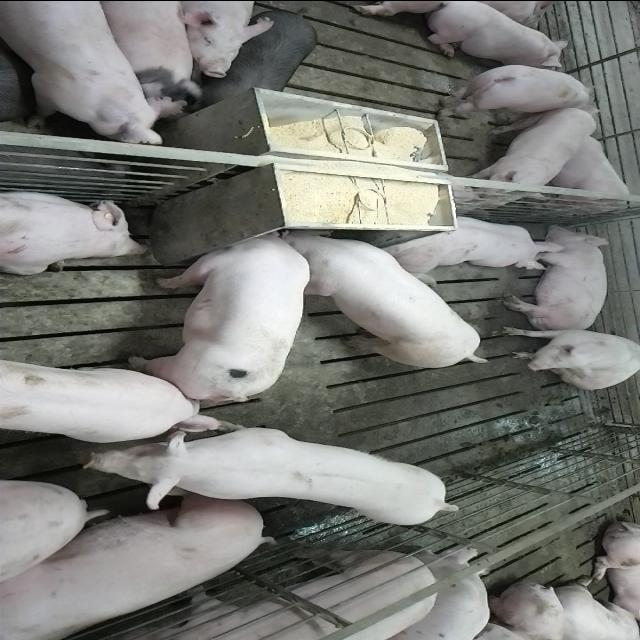Feeding: (127, 220, 311, 397), (281, 230, 497, 372)
Lateral_lying: (501, 224, 614, 332)
Sitting: (499, 326, 639, 388)
Standing: (1, 547, 444, 640), (132, 422, 456, 528), (0, 1, 182, 142), (2, 352, 227, 443), (194, 3, 320, 108), (90, 3, 206, 110), (467, 103, 593, 201), (429, 61, 605, 117), (176, 0, 274, 74)
Sternal_lying: (0, 186, 149, 274), (382, 208, 565, 278), (424, 3, 572, 67), (544, 131, 636, 211)
